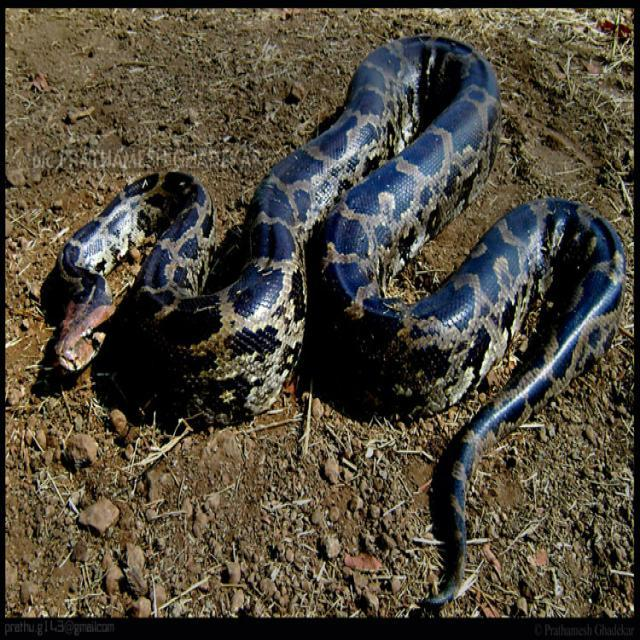Snake: (54, 32, 626, 606)
